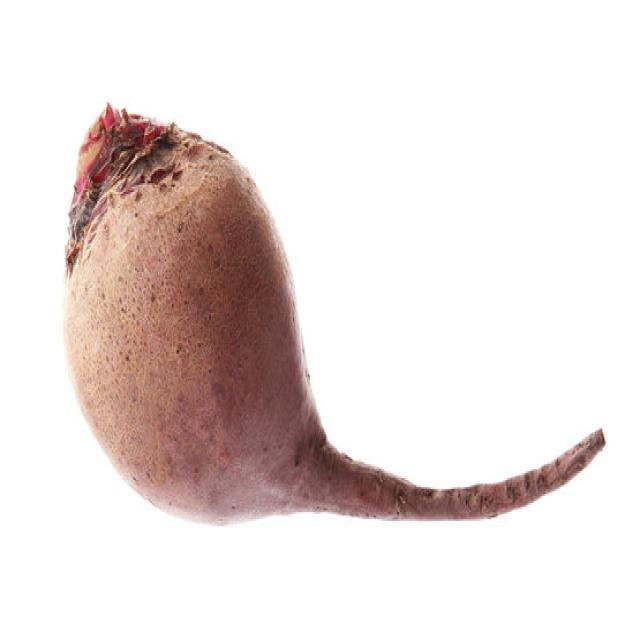Beetroot: (61, 100, 606, 526)
